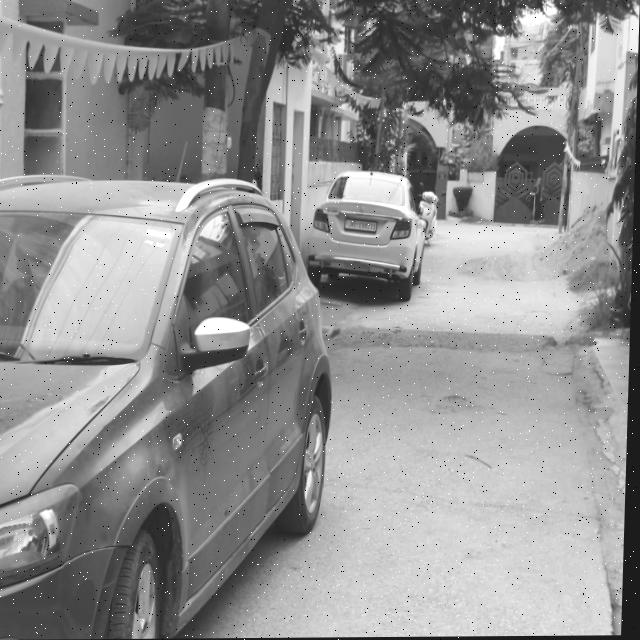bike: (418, 182, 444, 246)
car: (0, 165, 348, 637), (306, 165, 436, 322)
